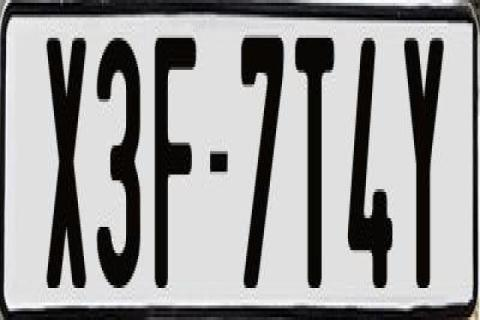0: (348, 38, 396, 300), (96, 38, 142, 294), (237, 38, 280, 302)
F: (154, 29, 202, 291)
T: (294, 29, 338, 297)
X: (44, 32, 84, 285)
Y: (402, 29, 448, 285)
